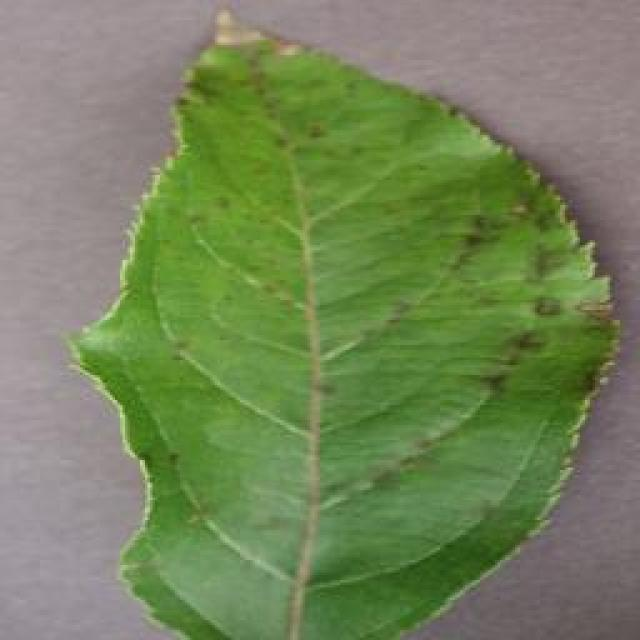Apple___Apple_scab: (60, 3, 624, 638)
